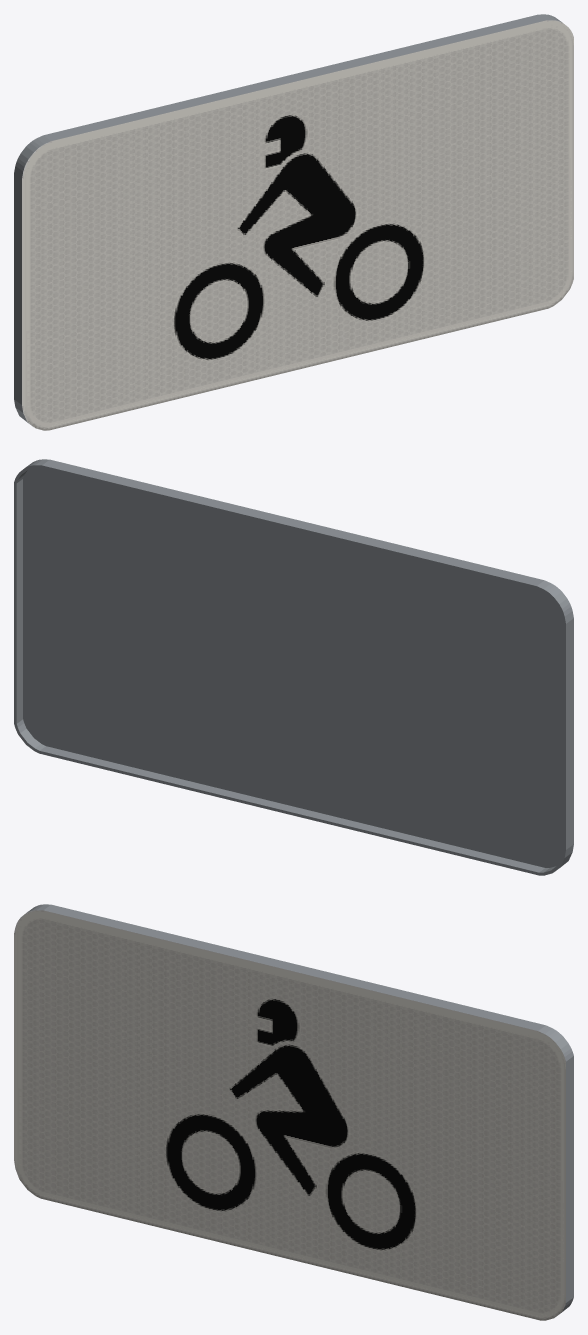
3 views of the same model, one above another, from view 1: azimuth 30°, elevation 25°; view 2: azimuth 150°, elevation 25°; view 3: azimuth 330°, elevation 25° (orthographic).
Visible parts, largest first — view 1: cat_edabd29262de9d72; view 2: cat_edabd29262de9d72; view 3: cat_edabd29262de9d72.
Boxes of the visible parts, x1,y1,x2,y2 form: cat_edabd29262de9d72: [14, 14, 573, 430]; cat_edabd29262de9d72: [14, 459, 573, 875]; cat_edabd29262de9d72: [14, 904, 573, 1320].
Bounding box in the file's own units: 0.6 × 0.015 × 0.3.
Materials: 2 (1 with a texture image).
